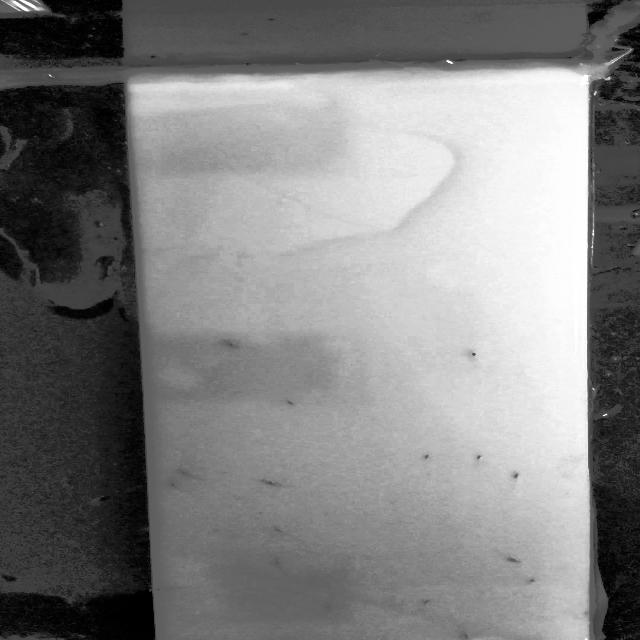shrimp: (265, 518, 296, 538), (260, 479, 308, 491), (270, 553, 292, 577), (147, 584, 183, 596), (320, 598, 340, 618), (469, 452, 487, 473), (218, 338, 239, 352), (164, 479, 185, 492), (282, 396, 300, 410), (174, 467, 198, 477), (511, 469, 522, 490), (504, 555, 525, 565), (465, 348, 482, 360), (418, 452, 434, 461), (524, 578, 544, 584), (422, 598, 434, 606), (459, 632, 472, 639)
